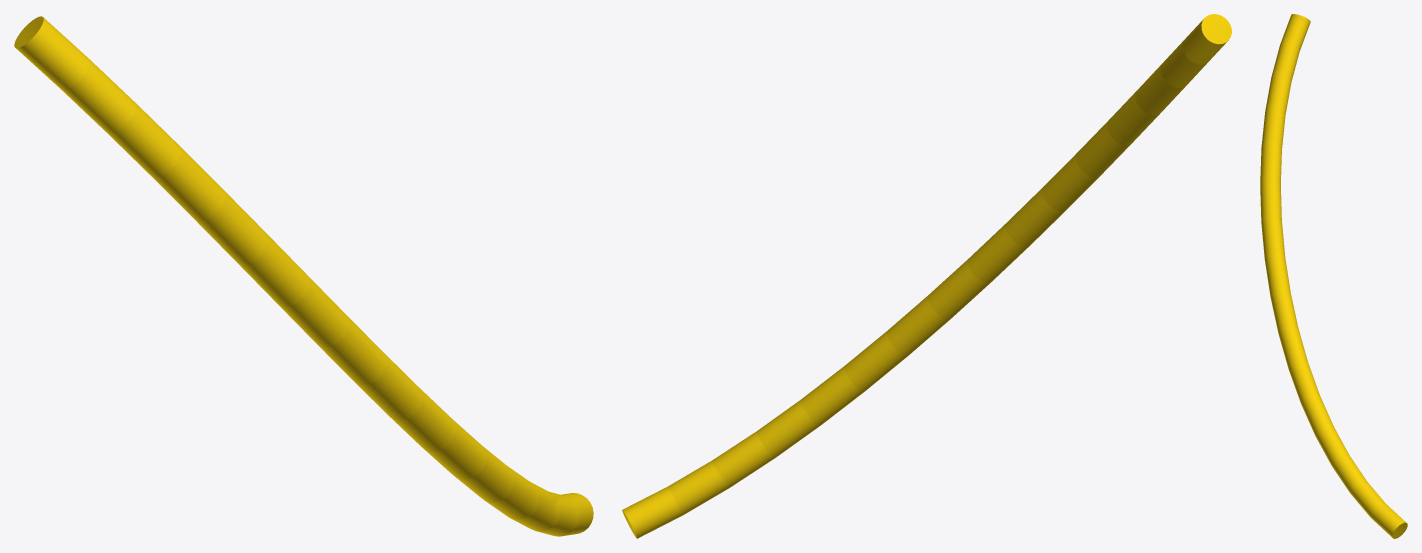
File: Event_421115418_track_106.fbx
The picture shows the model from 3 angles, left to right: view 1: azimuth 30°, elevation 25°; view 2: azimuth 150°, elevation 25°; view 3: azimuth 270°, elevation 25°; orthographic projection. The views are drawn at different scales.
Parts seen in each view (by area): view 1: Model; view 2: Model; view 3: Model.
Boxes of the visible parts, <box> form: Model: <box>14,16,593,536</box>; Model: <box>622,14,1231,538</box>; Model: <box>1260,14,1407,538</box>.
Size of the model in its own units: 0.7458 by 0.7871 by 0.2841.
